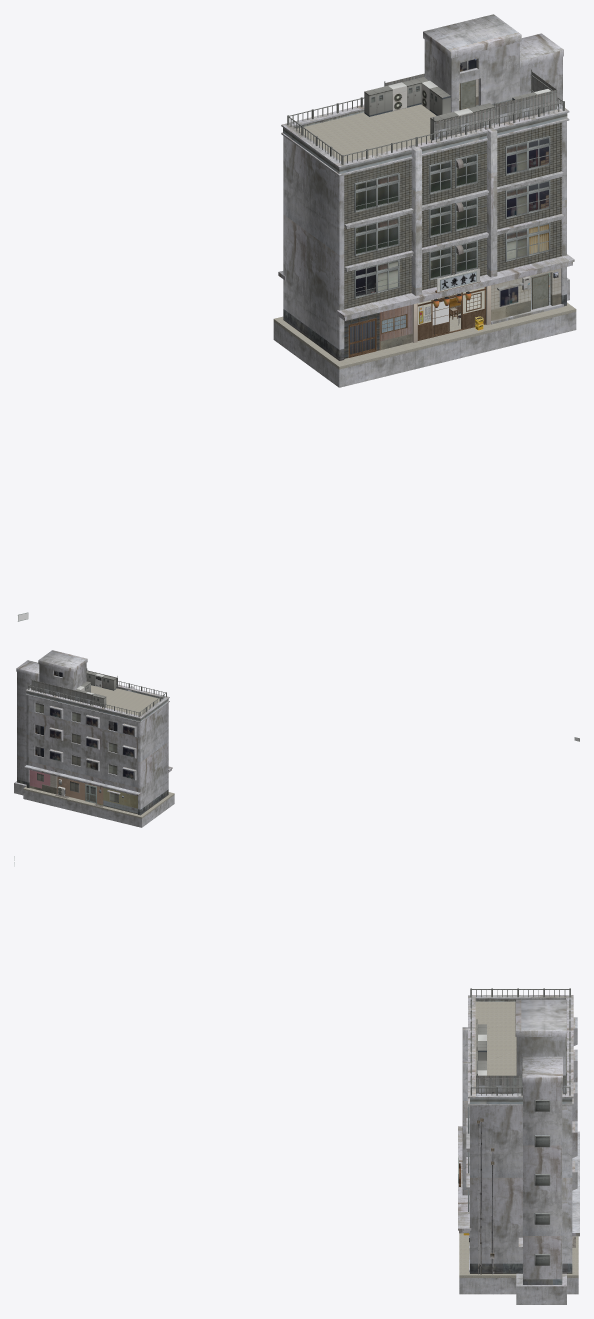
Rendered from Mallset_Izakaya_b.fbx.
3 renders of one model, top to bottom at view 1: azimuth 30°, elevation 25°; view 2: azimuth 150°, elevation 25°; view 3: azimuth 270°, elevation 25°, orthographic. The views are drawn at different scales.
Visible parts, largest first — view 1: building_large_2_in, shop_f_izakaya01; view 2: building_large_2_in; view 3: building_large_2_in.
Part boxes in pixels (bbox=[...]): building_large_2_in: bbox=[273, 14, 576, 387]; shop_f_izakaya01: bbox=[417, 286, 485, 340]; building_large_2_in: bbox=[14, 650, 174, 827]; building_large_2_in: bbox=[458, 988, 579, 1304].
Bounding box in the file's own units: 6458 × 2074 × 4201.
